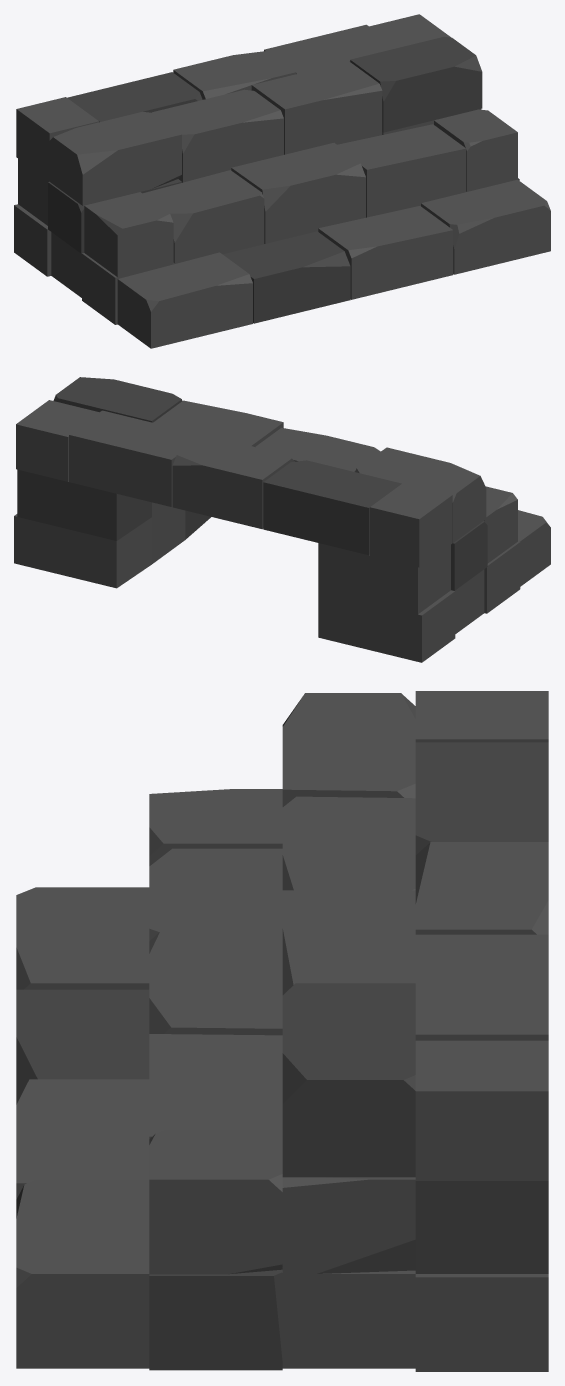
The model's file is Stairs_01.glb.
3 renders of one model, top to bottom at view 1: azimuth 30°, elevation 25°; view 2: azimuth 150°, elevation 25°; view 3: azimuth 270°, elevation 25°, orthographic. The views are drawn at different scales.
Parts seen in each view (by area): view 1: Stairs_01_LOD0; view 2: Stairs_01_LOD0; view 3: Stairs_01_LOD0.
Part boxes in pixels (bbox=[...]): Stairs_01_LOD0: bbox=[14, 14, 550, 348]; Stairs_01_LOD0: bbox=[14, 377, 550, 662]; Stairs_01_LOD0: bbox=[16, 691, 548, 1371].
Size of what is drawn, in the model's own units: 2.09 by 0.704 by 1.18.
1 material, 1 textured.
